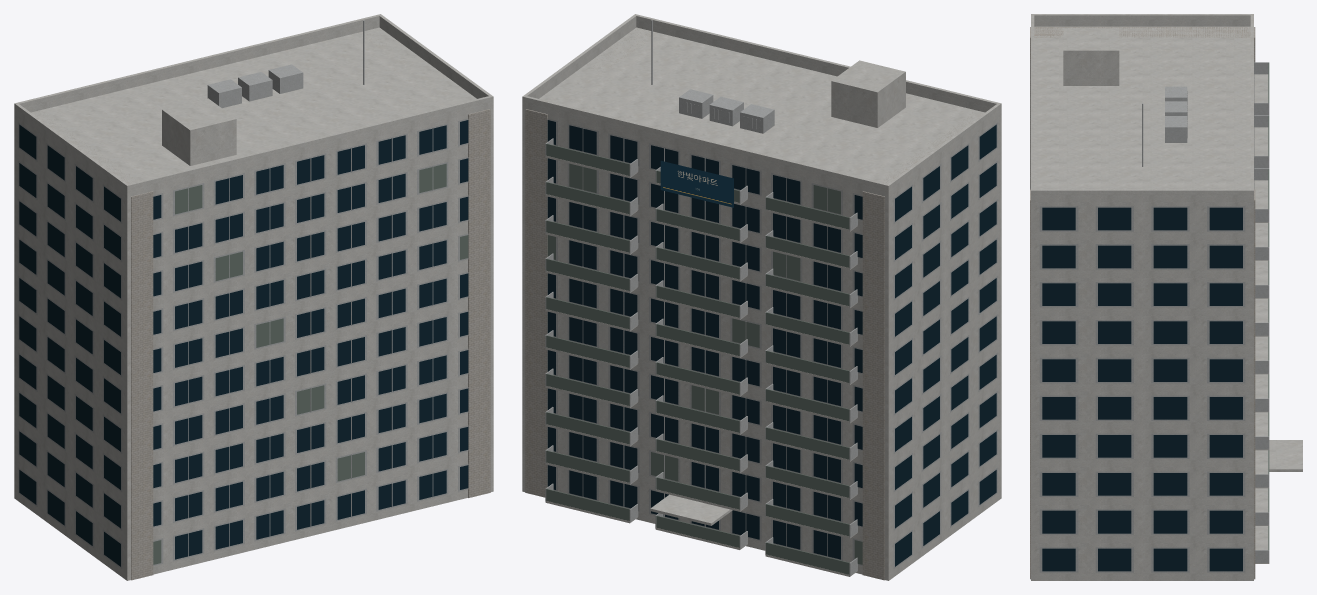
The model's file is apartment_slab.obj.
The picture shows the model from 3 angles, left to right: view 1: azimuth 30°, elevation 25°; view 2: azimuth 150°, elevation 25°; view 3: azimuth 270°, elevation 25°; orthographic projection.
Visible parts, largest first — view 1: Apartment_White, Window_Glass, Dark_Frame, Paver_Accent, Concrete, Window_Light, Warm_Plaster, AC_White; view 2: Apartment_White, Window_Glass, Window_Light, Dark_Frame, Paver_Accent, Concrete, Warm_Plaster, AC_White, Sign_Atlas; view 3: Apartment_White, Window_Glass, Dark_Frame, Concrete, Warm_Plaster, Paver_Accent, AC_White, Window_Light.
Boxes of the visible parts, x1,y1,x2,y2 form: Apartment_White: [14, 27, 493, 580]; Window_Glass: [19, 120, 468, 566]; Dark_Frame: [18, 118, 468, 568]; Paver_Accent: [35, 34, 490, 580]; Concrete: [14, 14, 493, 197]; Window_Light: [153, 163, 468, 564]; Warm_Plaster: [162, 98, 236, 165]; AC_White: [207, 64, 303, 108]; Apartment_White: [522, 27, 1001, 580]; Window_Glass: [547, 120, 996, 566]; Window_Light: [546, 143, 862, 574]; Dark_Frame: [545, 101, 997, 575]; Paver_Accent: [525, 29, 972, 580]; Concrete: [522, 14, 1001, 197]; Warm_Plaster: [831, 60, 905, 127]; AC_White: [679, 89, 774, 133]; Sign_Atlas: [660, 160, 733, 207]; Apartment_White: [1031, 26, 1302, 580]; Window_Glass: [1042, 207, 1242, 571]; Dark_Frame: [1030, 59, 1269, 572]; Concrete: [1031, 14, 1253, 201]; Warm_Plaster: [1063, 28, 1119, 85]; Paver_Accent: [1030, 27, 1255, 579]; AC_White: [1165, 86, 1187, 142]; Window_Light: [1268, 62, 1269, 550].
Bounding box in the file's own units: 30.09 × 35 × 19.57.
